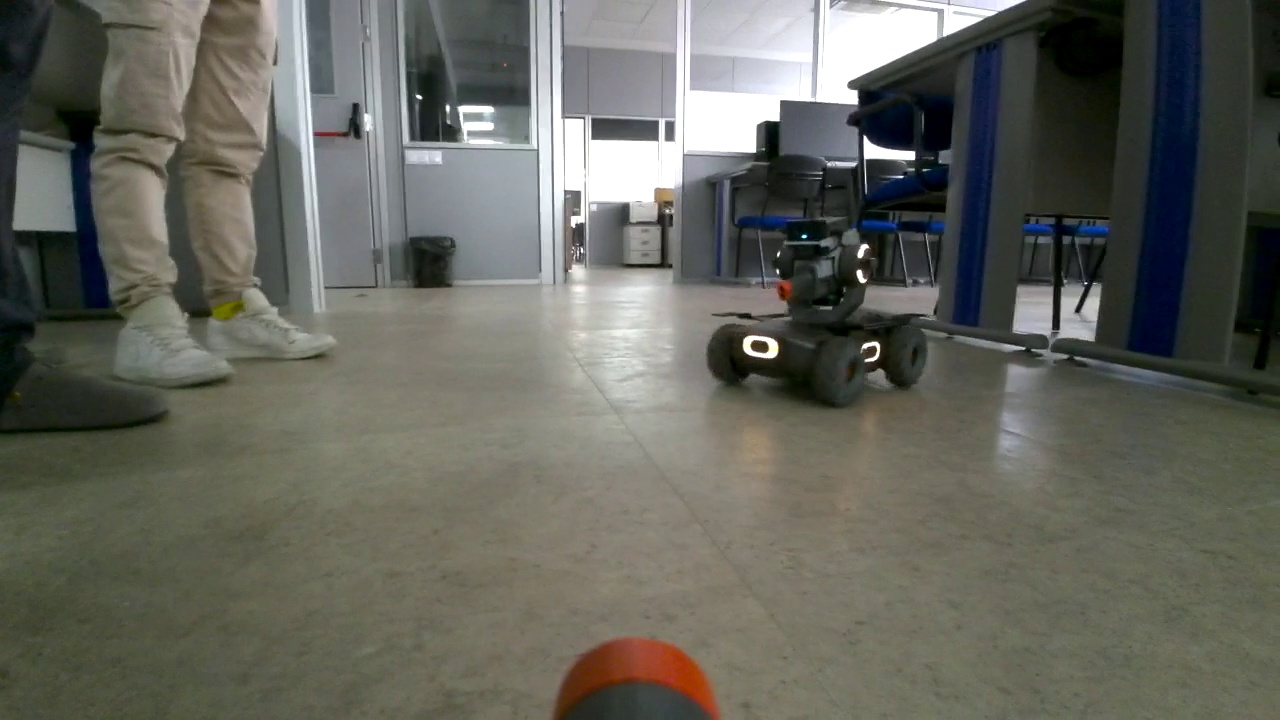robot: (706, 203, 930, 401)
